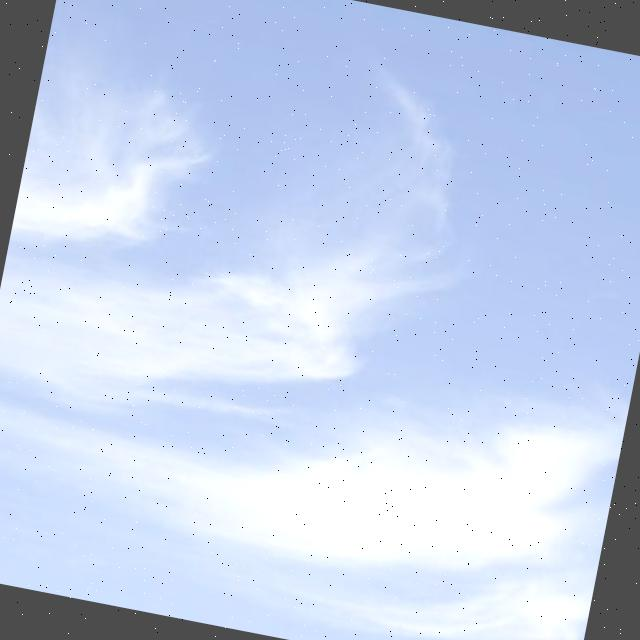Ci: (1, 30, 640, 640)
